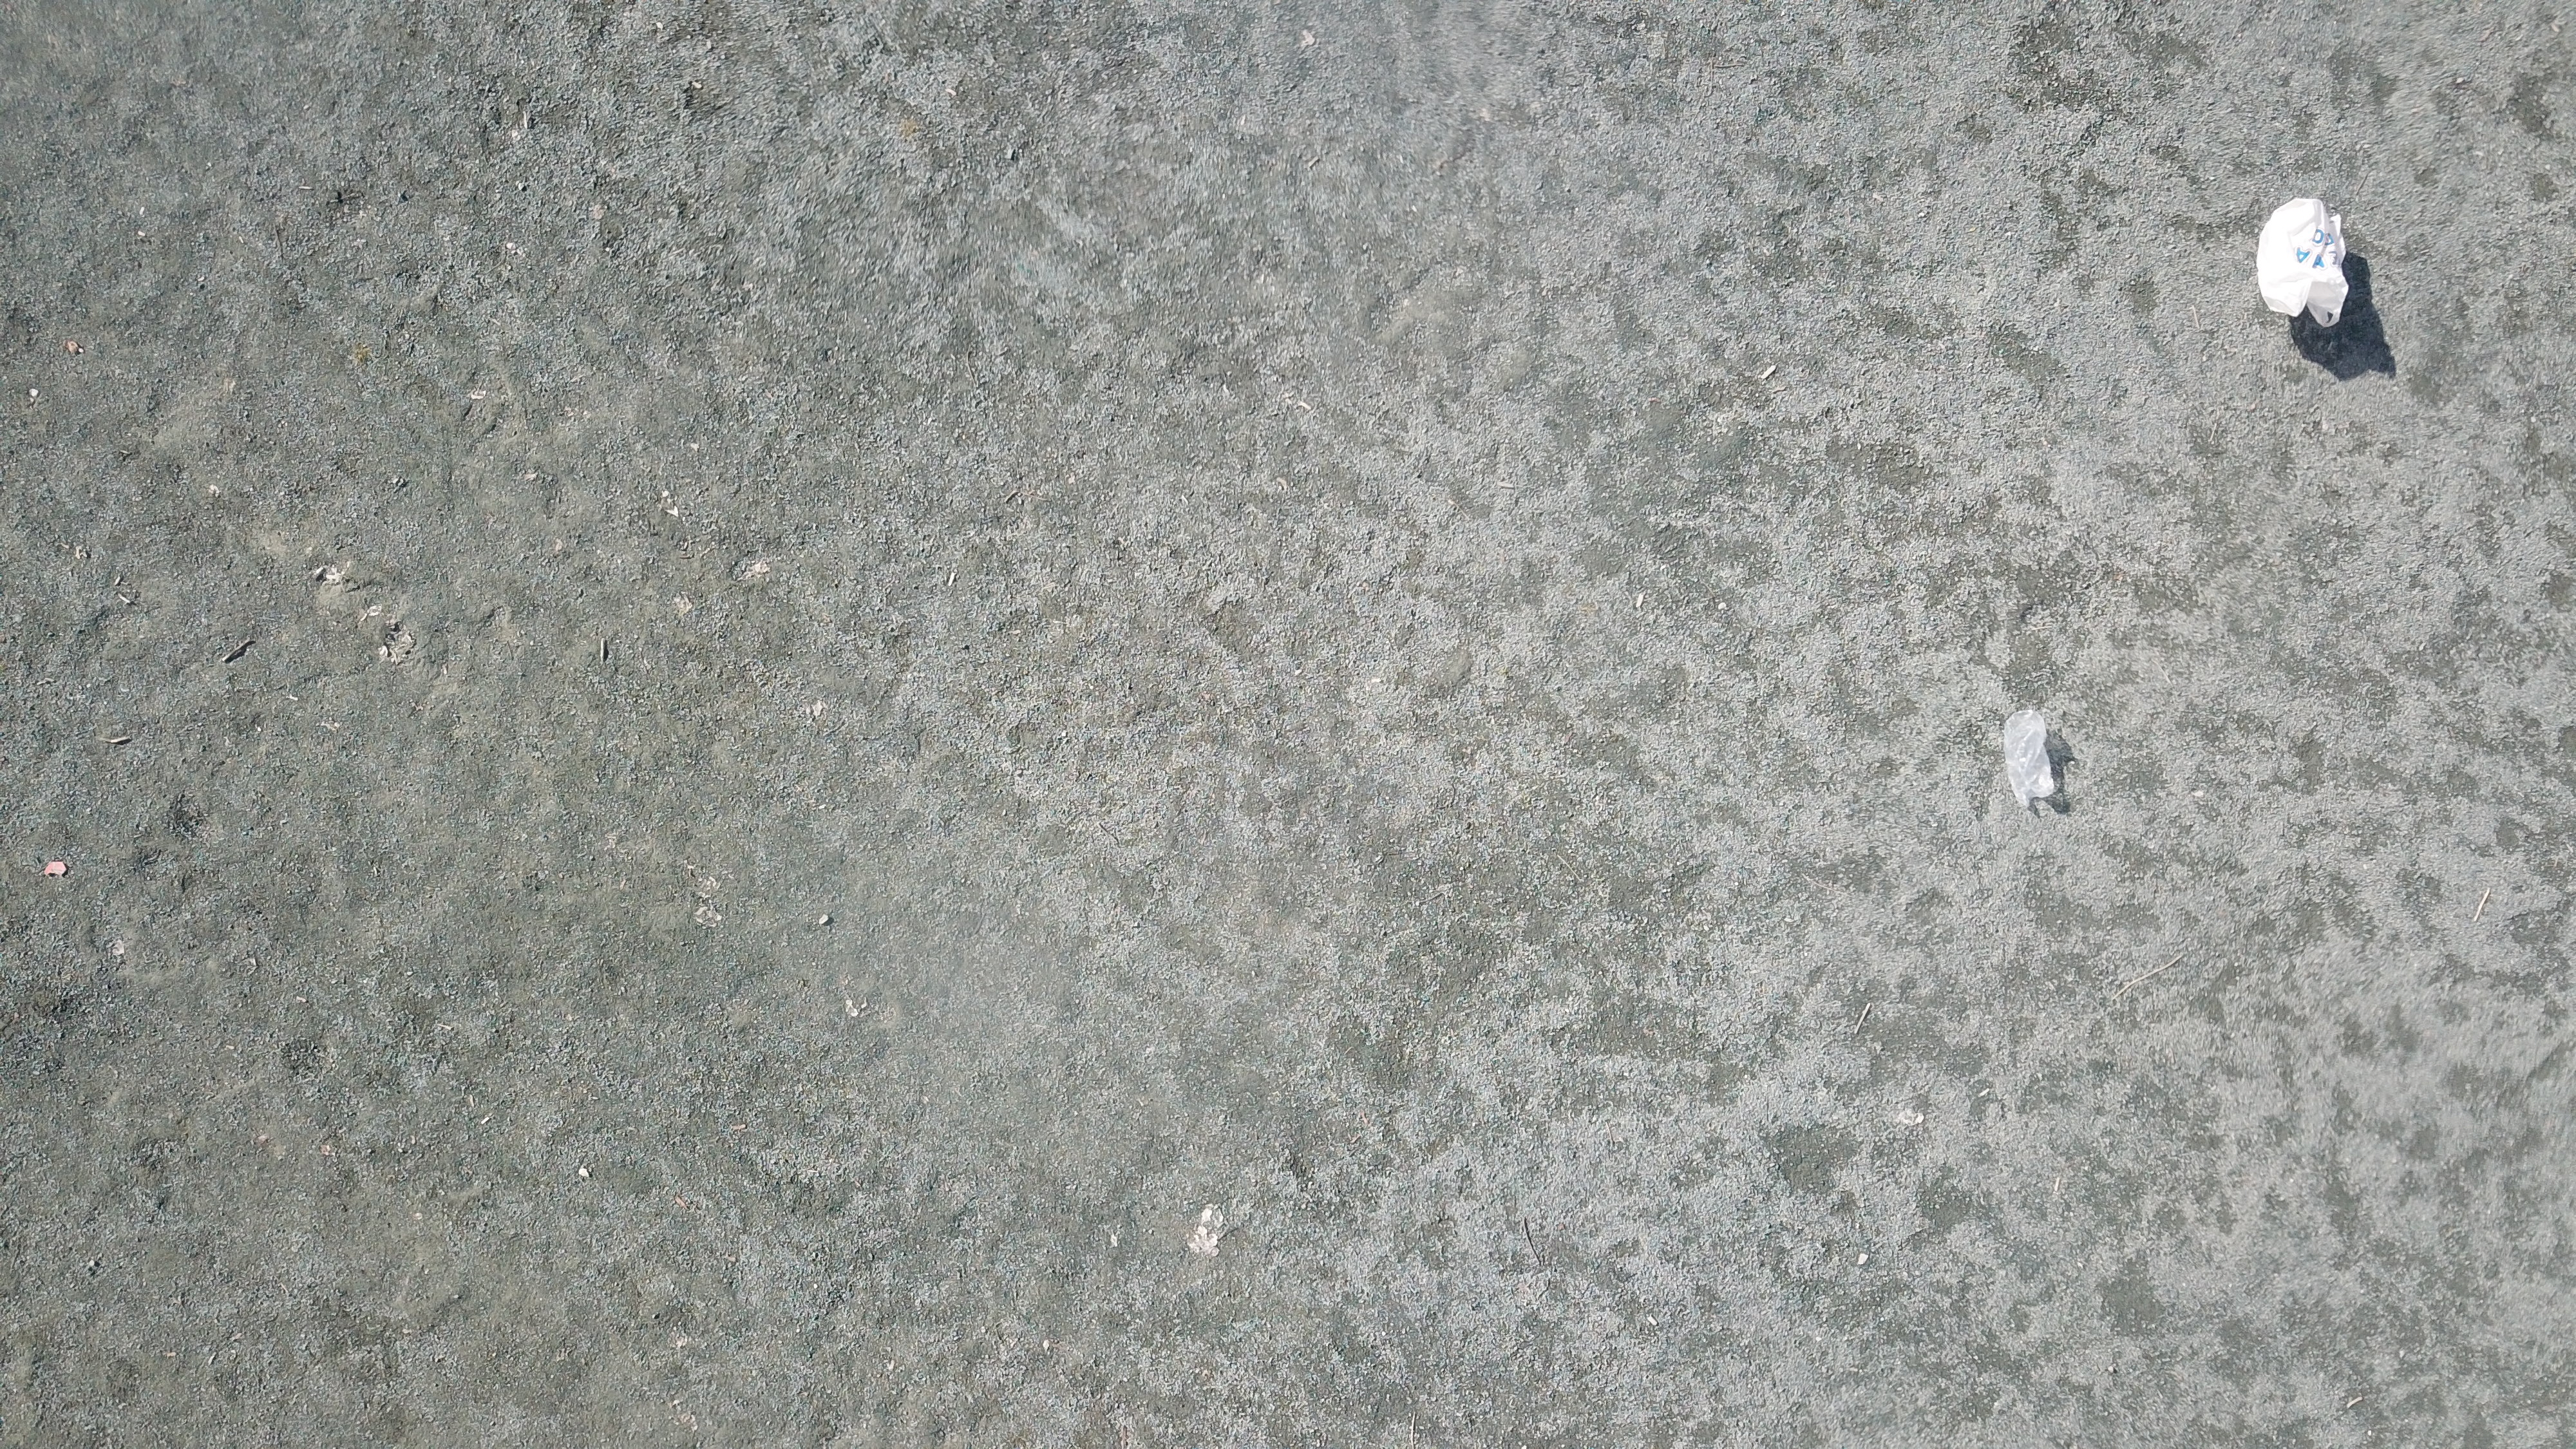Plastic: (2258, 202, 2350, 331), (2003, 711, 2054, 807)
